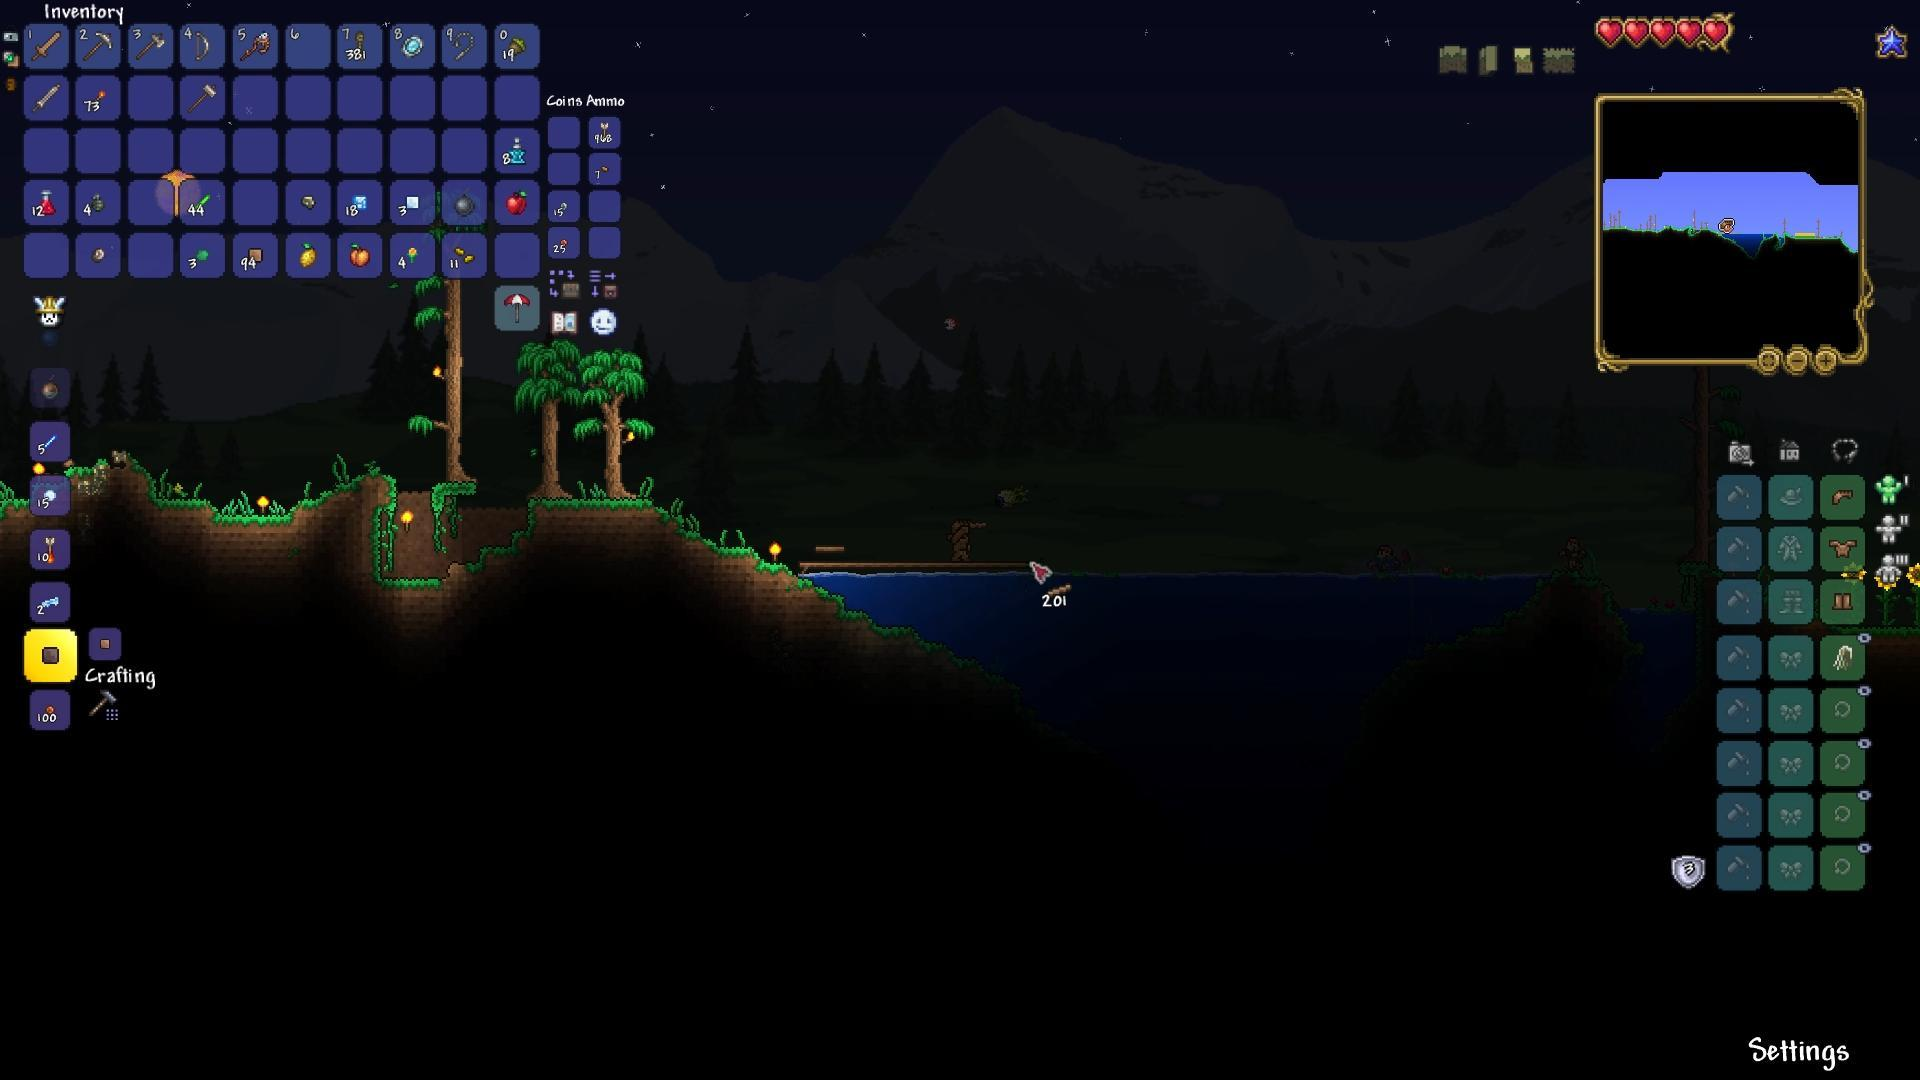eye: (988, 481, 1043, 512)
grenade: (91, 190, 105, 215)
potion: (36, 182, 59, 219)
recallP: (506, 135, 529, 164)
